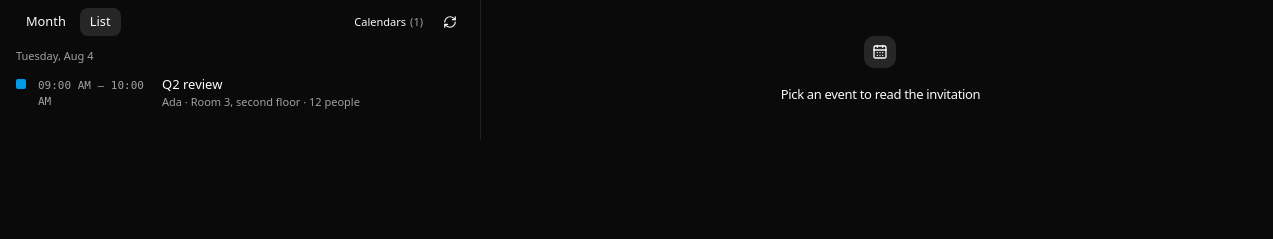
Test: names the things the row had to drop to fit
Click the button named "show Q2 review": (240, 92) [8,68,472,116]
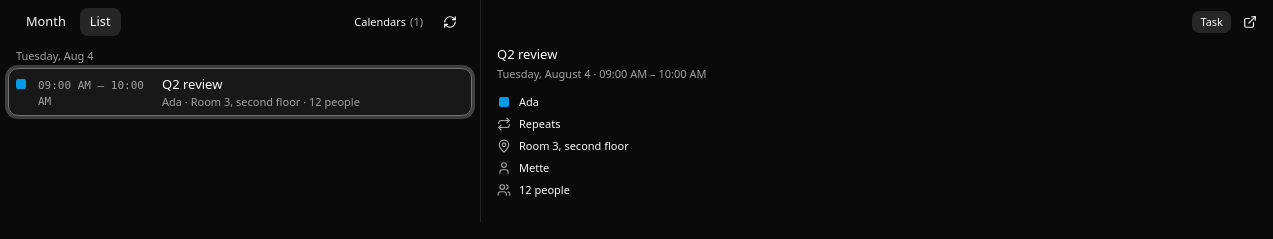
Expected: the text "Room 3, second floor" is shown, [519,138,629,154]
Expected: the text "Mette" is shown, [519,160,549,176]
Expected: the text "12 people" is shown, [519,182,570,198]
